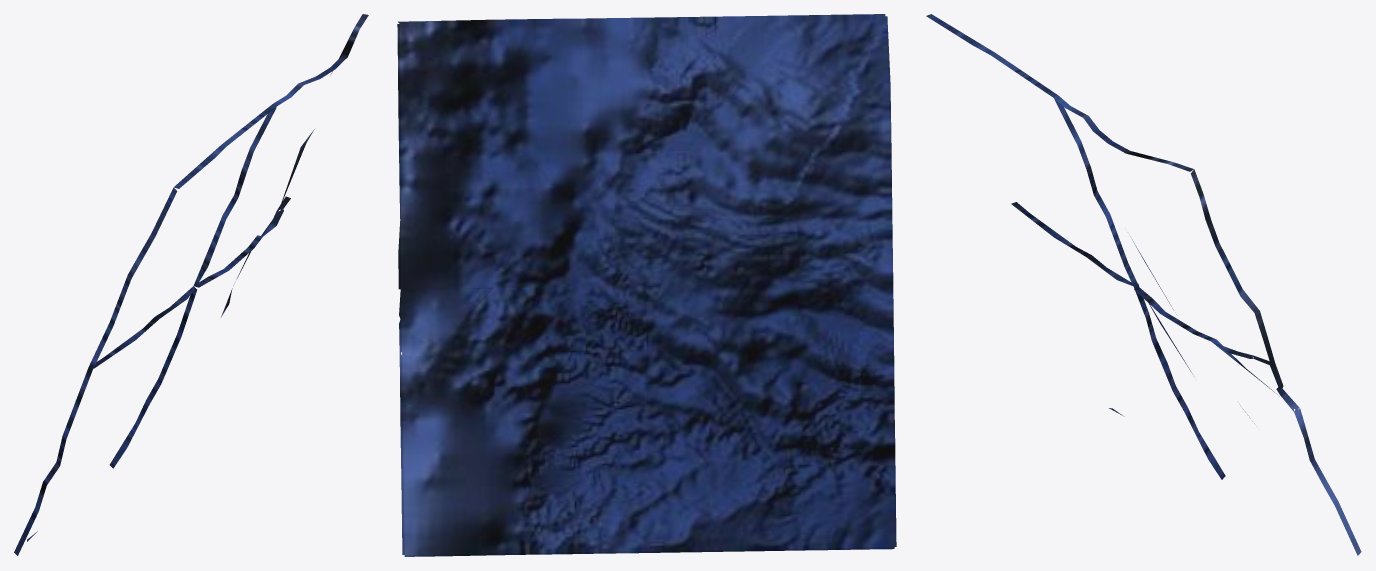
3 renders of one model, left to right at view 1: azimuth 30°, elevation 25°; view 2: azimuth 150°, elevation 25°; view 3: azimuth 270°, elevation 25°, orthographic. The views are drawn at different scales.
Bounding box in the file's own units: 75888 × 74405 × 67026.
1 material, 1 textured.
